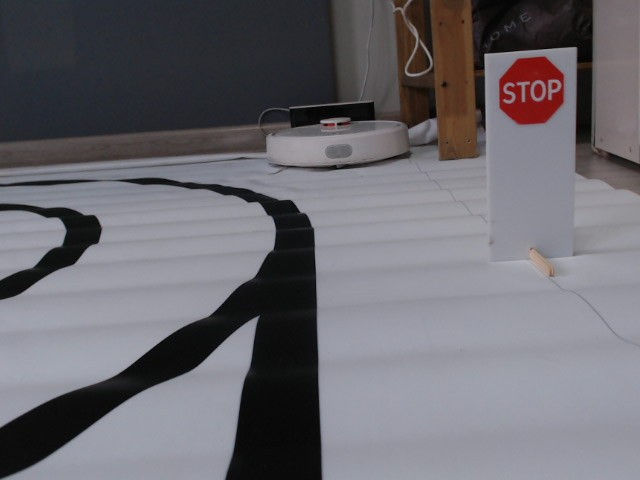Stop: (498, 55, 566, 128)
